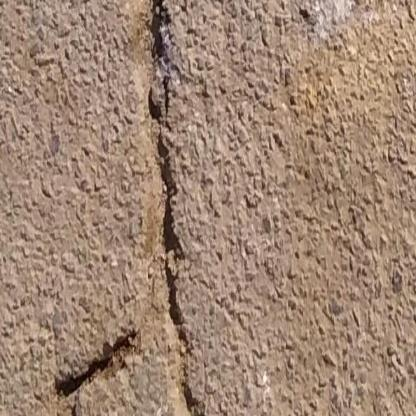Cracks: (53, 0, 225, 416)
